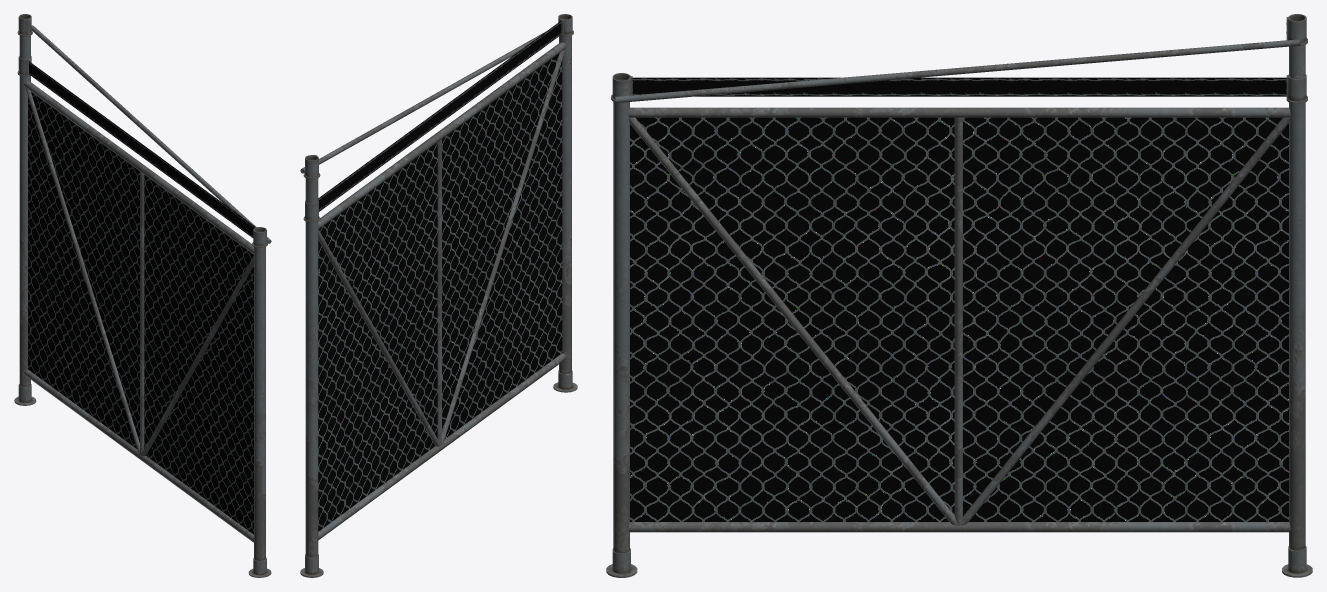
The model's file is SM_Fence_5_Gate.fbx.
3 views of the same model, side by side, from view 1: azimuth 30°, elevation 25°; view 2: azimuth 150°, elevation 25°; view 3: azimuth 270°, elevation 25° (orthographic). The views are drawn at different scales.
Visible parts, largest first — view 1: SM_Fence_5_Gate_LOD0; view 2: SM_Fence_5_Gate_LOD0; view 3: SM_Fence_5_Gate_LOD0.
Boxes of the visible parts, x1,y1,x2,y2 form: SM_Fence_5_Gate_LOD0: (14,14,271,577); SM_Fence_5_Gate_LOD0: (300,14,577,577); SM_Fence_5_Gate_LOD0: (606,14,1312,577).
Bounding box in the file's own units: 17.14 × 370 × 320.
2 materials, 2 textured.
